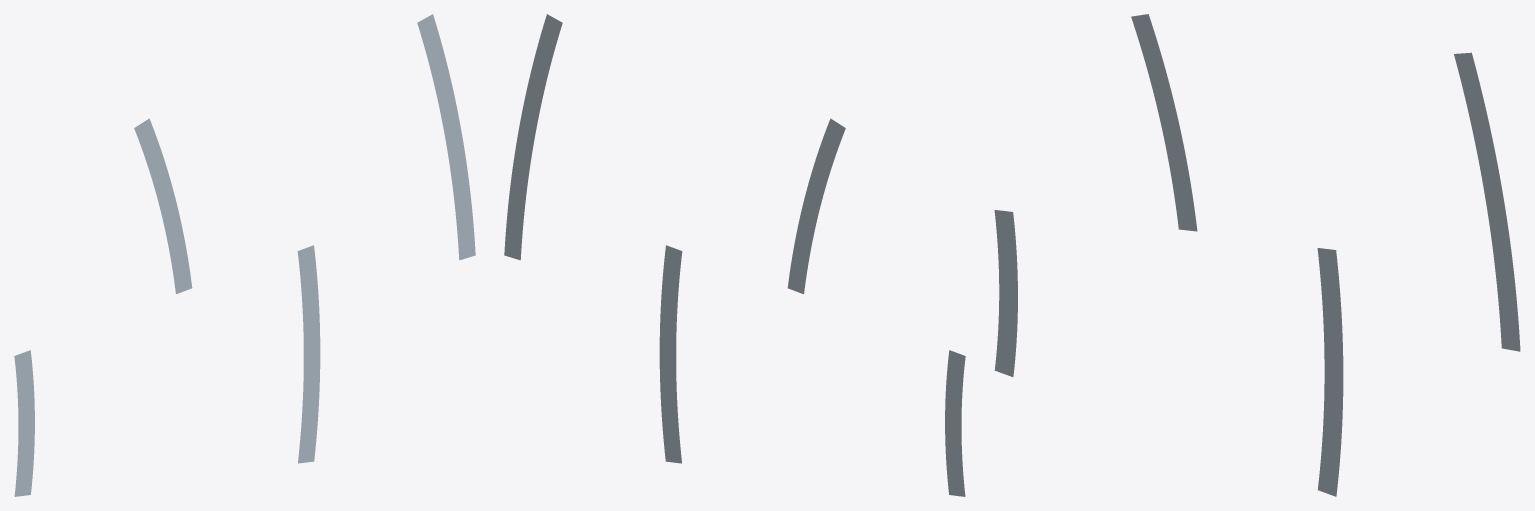
Rendered from 2067_Spin_Overall_CommonSourceLocalSweep.fbx.
3 renders of one model, left to right at view 1: azimuth 30°, elevation 25°; view 2: azimuth 150°, elevation 25°; view 3: azimuth 330°, elevation 25°, orthographic. The views are drawn at different scales.
Visible parts, largest first — view 1: PART_LocalSourceCenteredSweep_3, PART_LocalSourceCenteredSweep_2, PART_LocalSourceCenteredSweep_1, PART_LocalSourceCenteredSweep_0; view 2: PART_LocalSourceCenteredSweep_3, PART_LocalSourceCenteredSweep_2, PART_LocalSourceCenteredSweep_1, PART_LocalSourceCenteredSweep_0; view 3: PART_LocalSourceCenteredSweep_3, PART_LocalSourceCenteredSweep_2, PART_LocalSourceCenteredSweep_1, PART_LocalSourceCenteredSweep_0.
Boxes of the visible parts, x1,y1,x2,y2 form: PART_LocalSourceCenteredSweep_3: (417,14,475,260); PART_LocalSourceCenteredSweep_2: (297,245,320,463); PART_LocalSourceCenteredSweep_1: (134,118,192,294); PART_LocalSourceCenteredSweep_0: (14,350,34,496); PART_LocalSourceCenteredSweep_3: (504,14,562,260); PART_LocalSourceCenteredSweep_2: (659,245,682,463); PART_LocalSourceCenteredSweep_1: (787,118,845,294); PART_LocalSourceCenteredSweep_0: (945,350,965,496); PART_LocalSourceCenteredSweep_3: (1454,52,1520,351); PART_LocalSourceCenteredSweep_2: (1317,248,1343,496); PART_LocalSourceCenteredSweep_1: (1131,14,1197,231); PART_LocalSourceCenteredSweep_0: (994,210,1017,376).
Size of the model in its own units: 532 by 461 by 7.51e-05.
